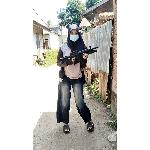Senapan: (60, 44, 100, 68)
